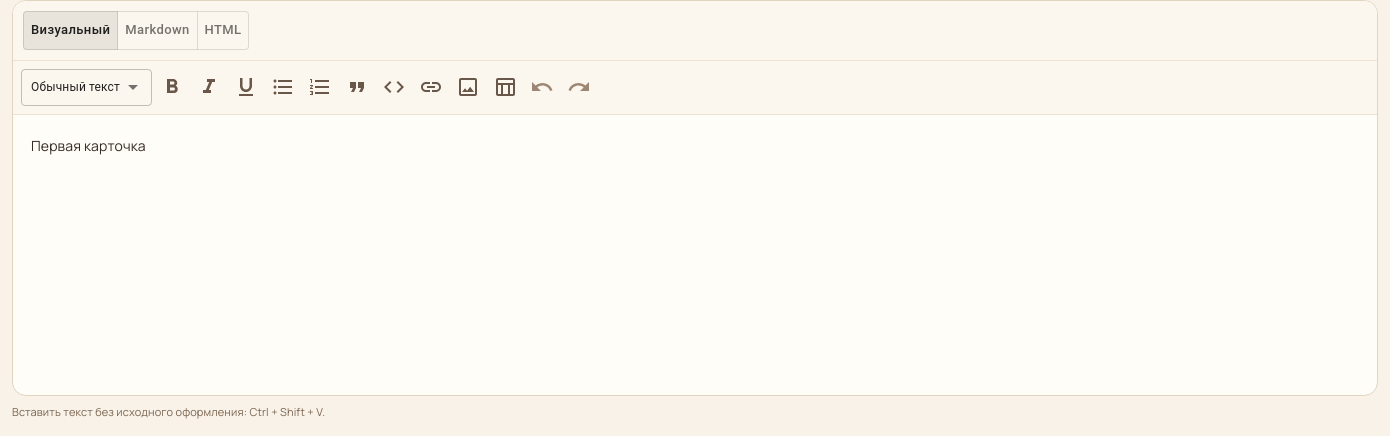
Test: external reload replaces the editor content without saving it back
What coordinates should you click on to do the following:
click the button "HTML"
I would click on:
 (223, 30)
Its box is [197,11,250,50].
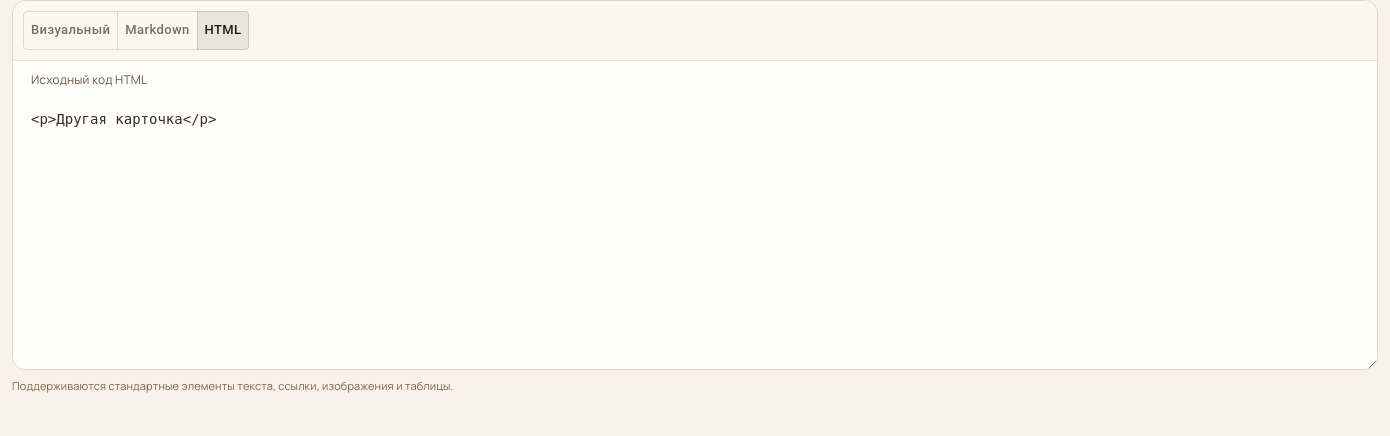
Now the text box labelled "Исходный код HTML" holds "<p>Другая карточка</p>"
